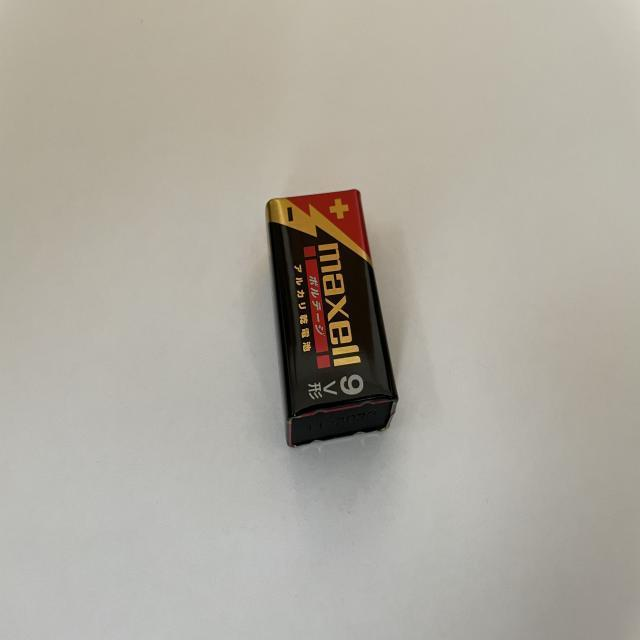9V: (265, 189, 400, 446)
